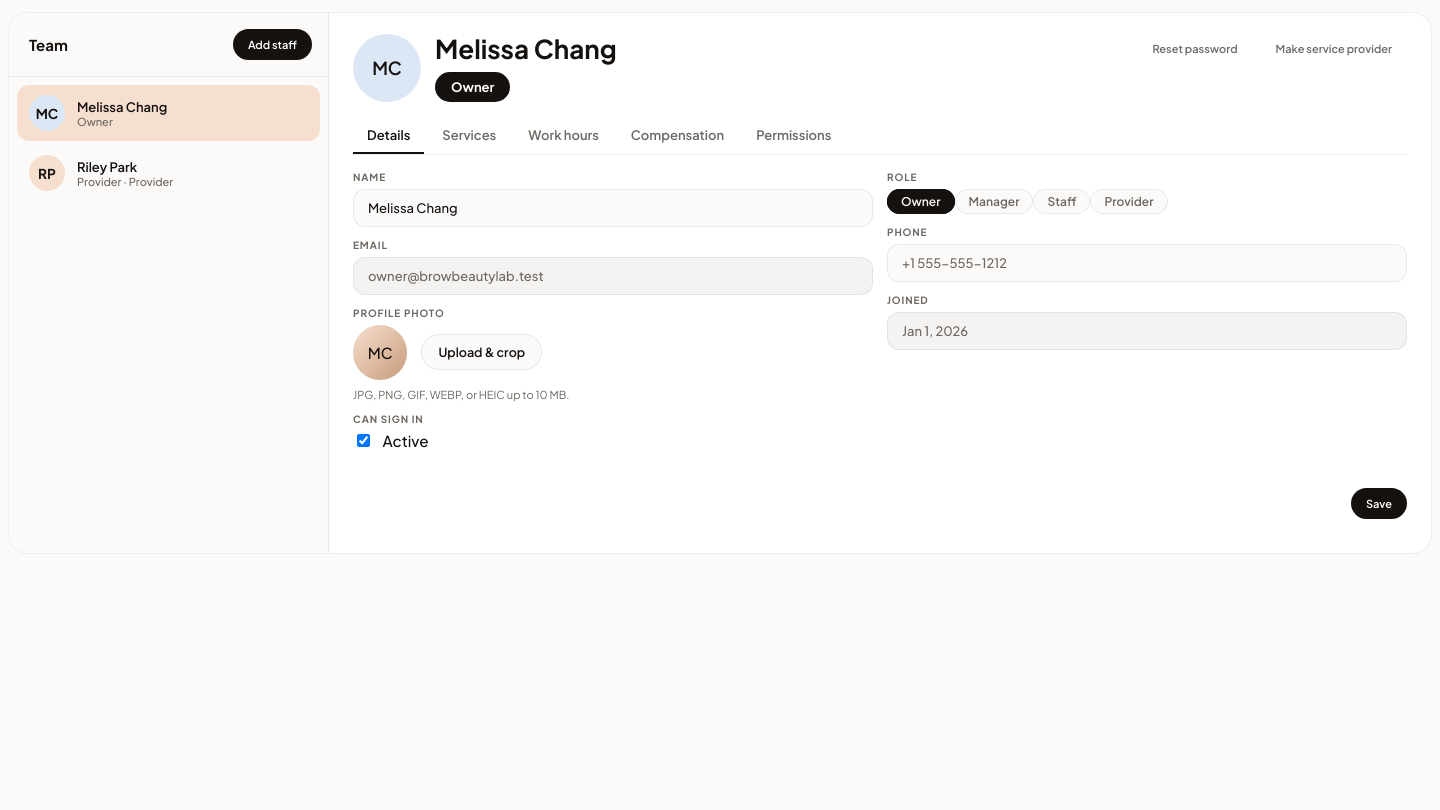
Test case: StaffPage › shows the direct booking link only when a provider is linked
Expected: the text "Booking link" is not shown
What coordinates should you click on to do the following:
click the button "RP Riley Park Provider · Provider"
I would click on:
 (168, 173)
Its box is x1=17 y1=145 x2=320 y2=201.
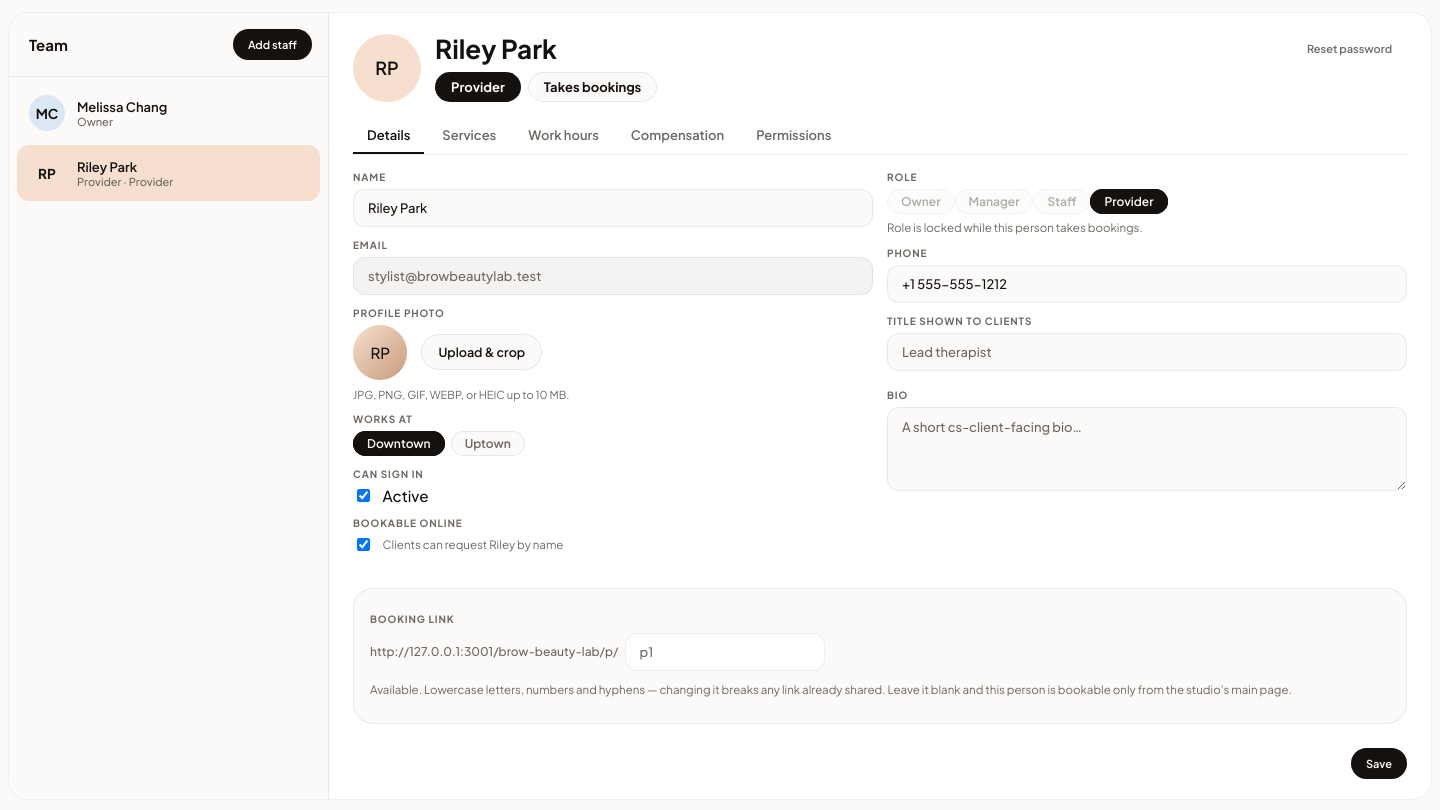
Expected: the text "Booking link" is shown, x1=370 y1=613 x2=454 y2=625
